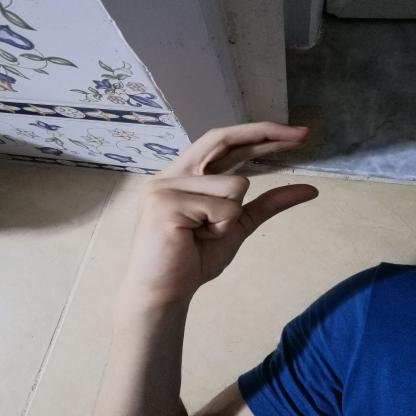DHELL: (116, 112, 333, 299)
